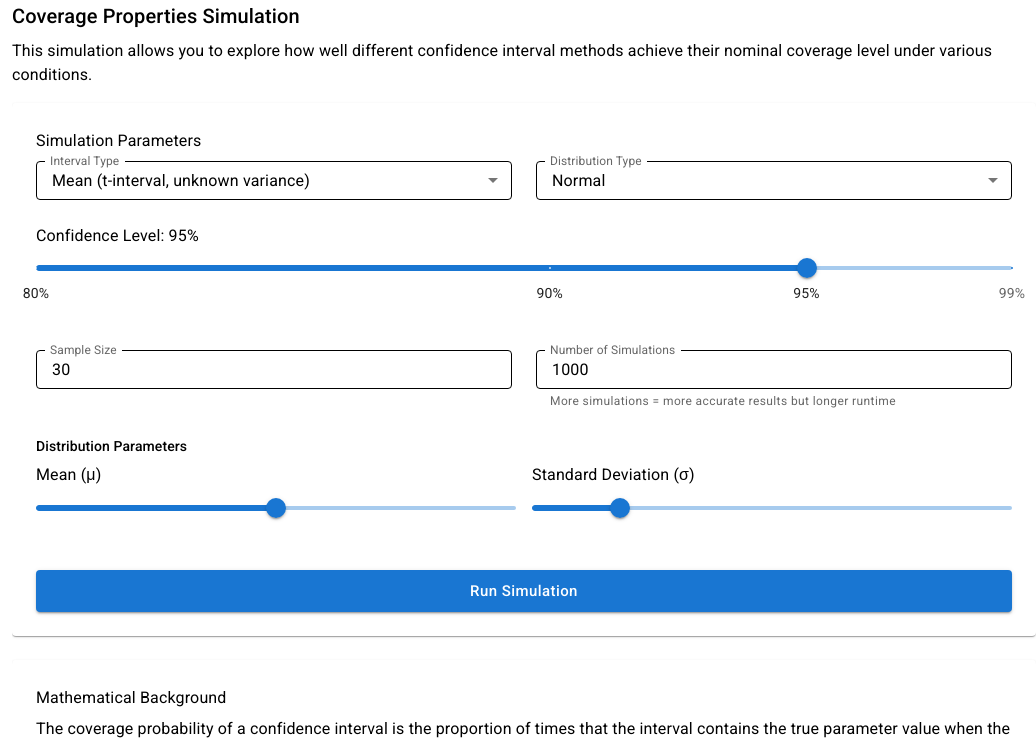
Scenario: CoverageSimulation Component › shows error when no project is selected
// Click Run Simulation button
Click the button "Run Simulation" at (524, 591), box left=36, top=570, right=1012, bottom=612
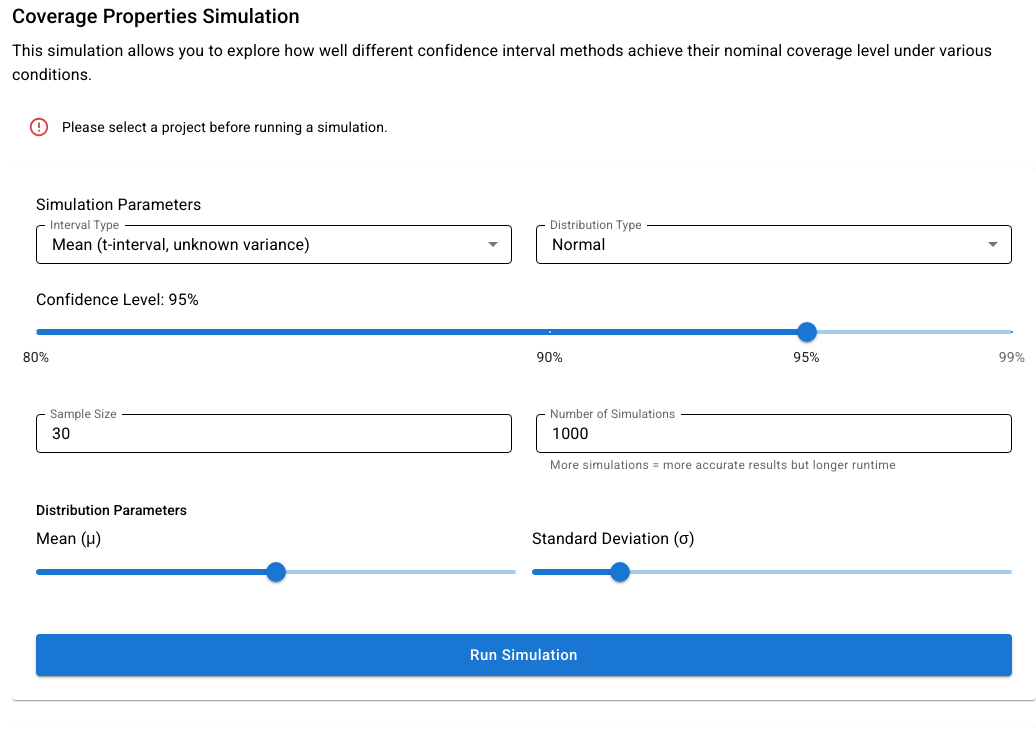
Expected: the text "Please select a project before running a simulation." is shown, left=62, top=119, right=388, bottom=135
